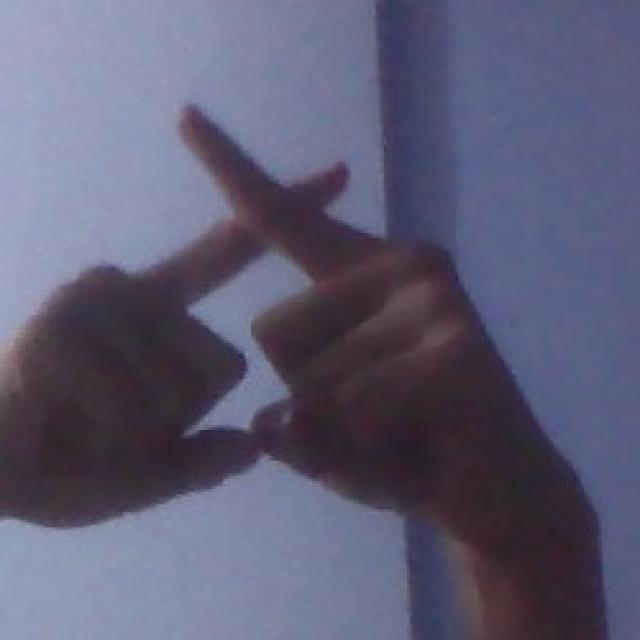Alphabet-X: (0, 93, 602, 586)
